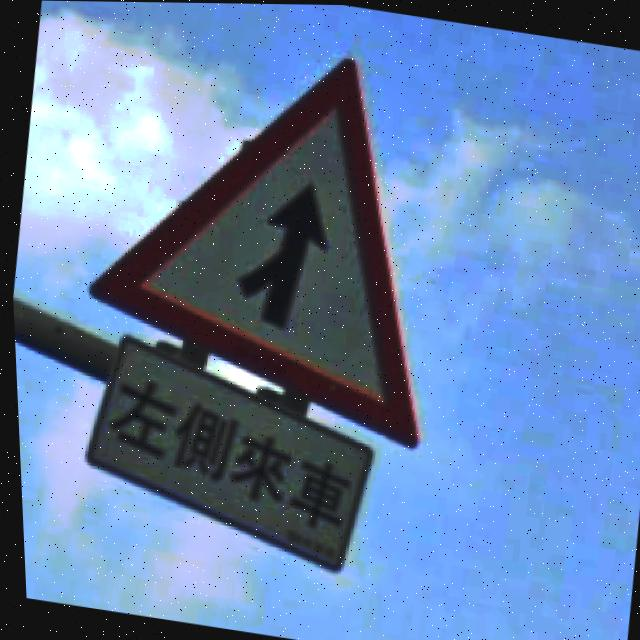leftmerge: (86, 58, 417, 451)
